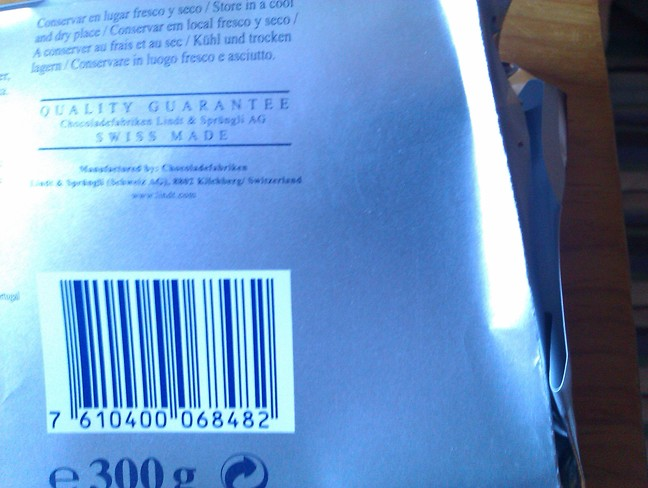barcode: (35, 271, 288, 433)
